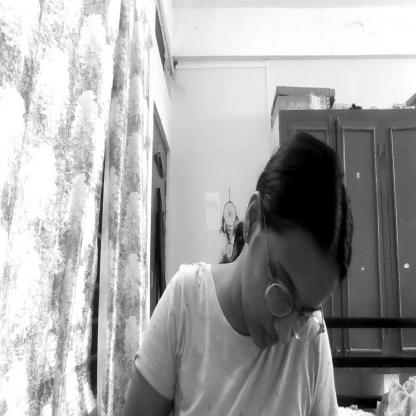Distracted: (241, 124, 354, 354)
